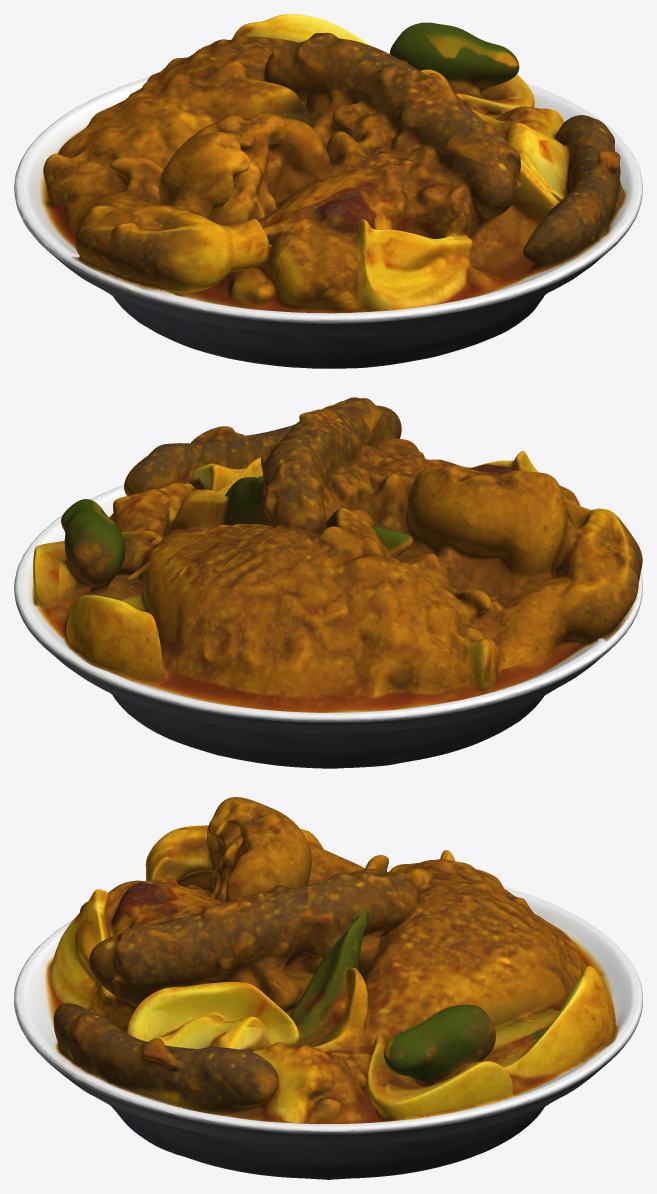
Rendered from kari-debal.glb.
3 views of the same model, one above another, from view 1: azimuth 30°, elevation 25°; view 2: azimuth 150°, elevation 25°; view 3: azimuth 270°, elevation 25° (orthographic).
Size of the model in its own units: 1.9 by 0.7497 by 1.89.
1 material, 1 textured.
